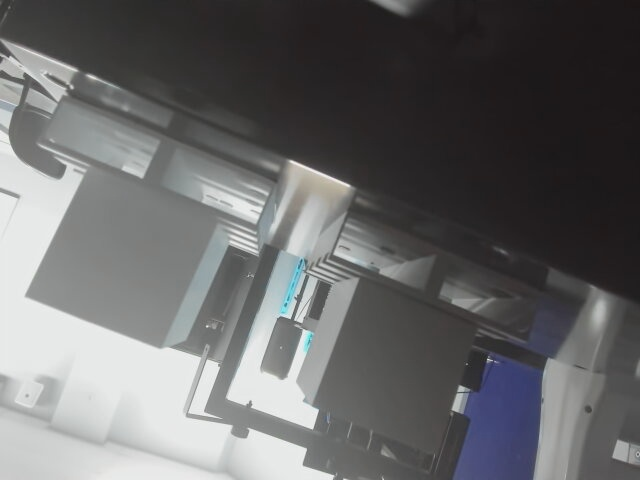grey pallet: (291, 201, 532, 462)
white pallet: (19, 88, 284, 351)
